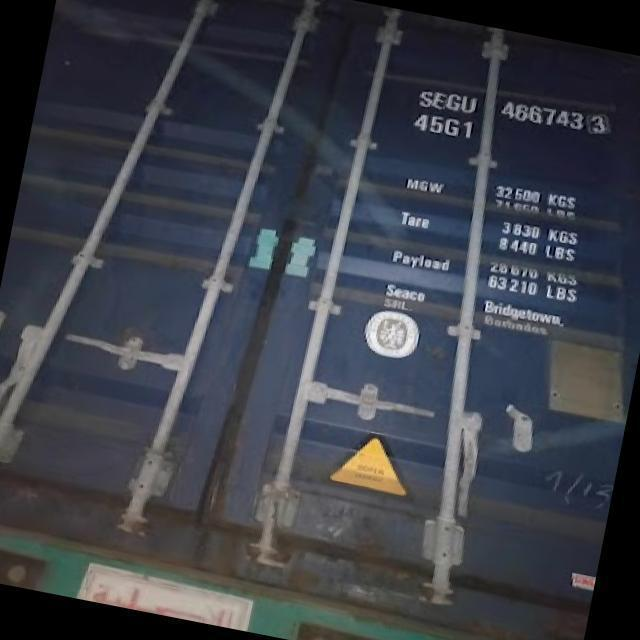ISO: (412, 115, 472, 144)
container_number: (413, 87, 601, 128)
